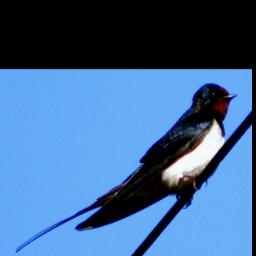Swallow: (12, 82, 239, 255)
